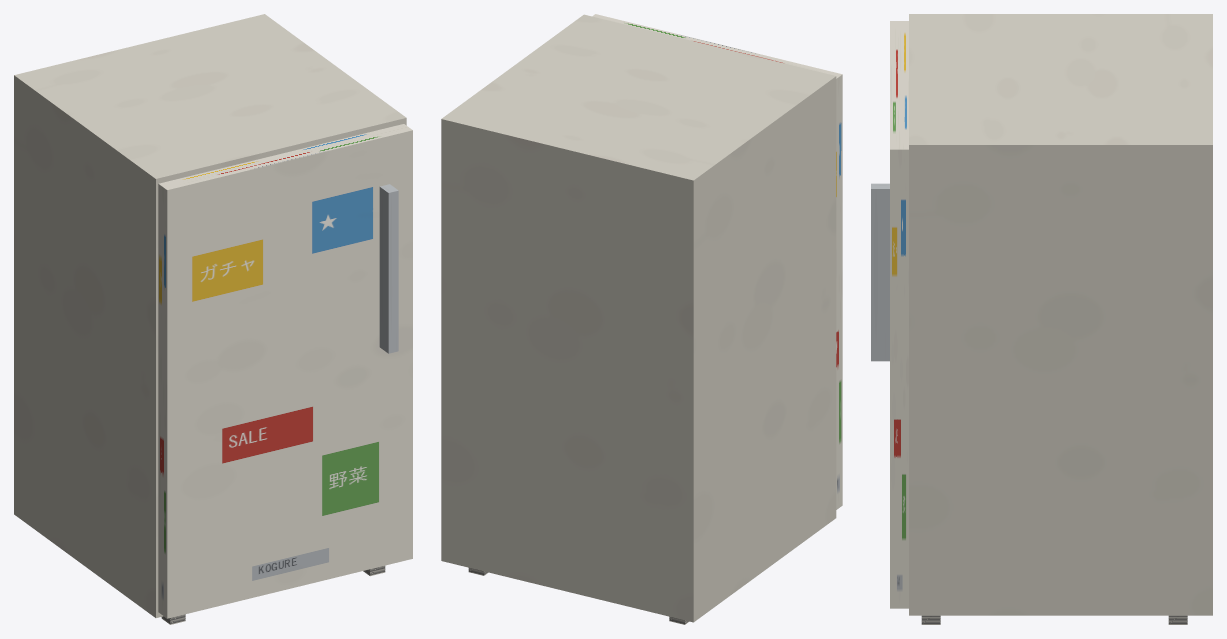
File: minifridge.glb
The picture shows the model from 3 angles, left to right: view 1: azimuth 30°, elevation 25°; view 2: azimuth 150°, elevation 25°; view 3: azimuth 270°, elevation 25°; orthographic projection. The views are drawn at different scales.
Visible parts, largest first — view 1: minifridge; view 2: minifridge; view 3: minifridge.
Part boxes in pixels (left/top/right/bottom): minifridge: left=14, top=14, right=412, bottom=624; minifridge: left=441, top=14, right=842, bottom=624; minifridge: left=871, top=14, right=1212, bottom=624.
Size of the model in its own units: 0.49 by 0.85 by 0.54.
Materials: 1 (1 with a texture image).
